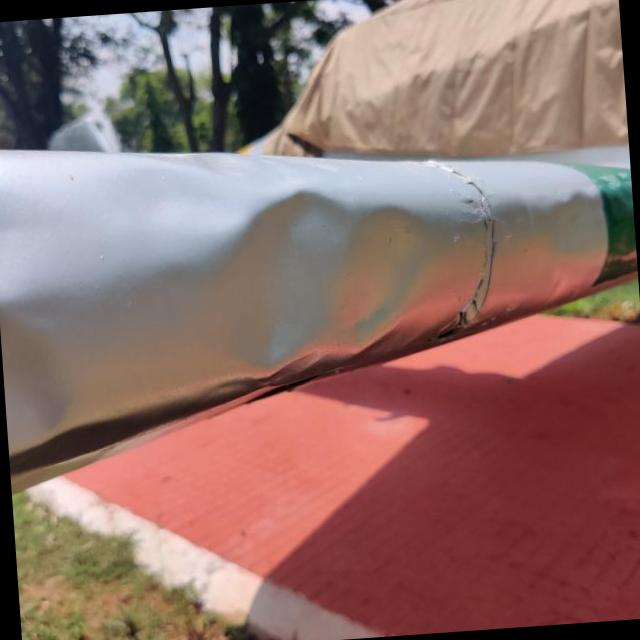Dent: (160, 154, 462, 401), (0, 310, 66, 454)
